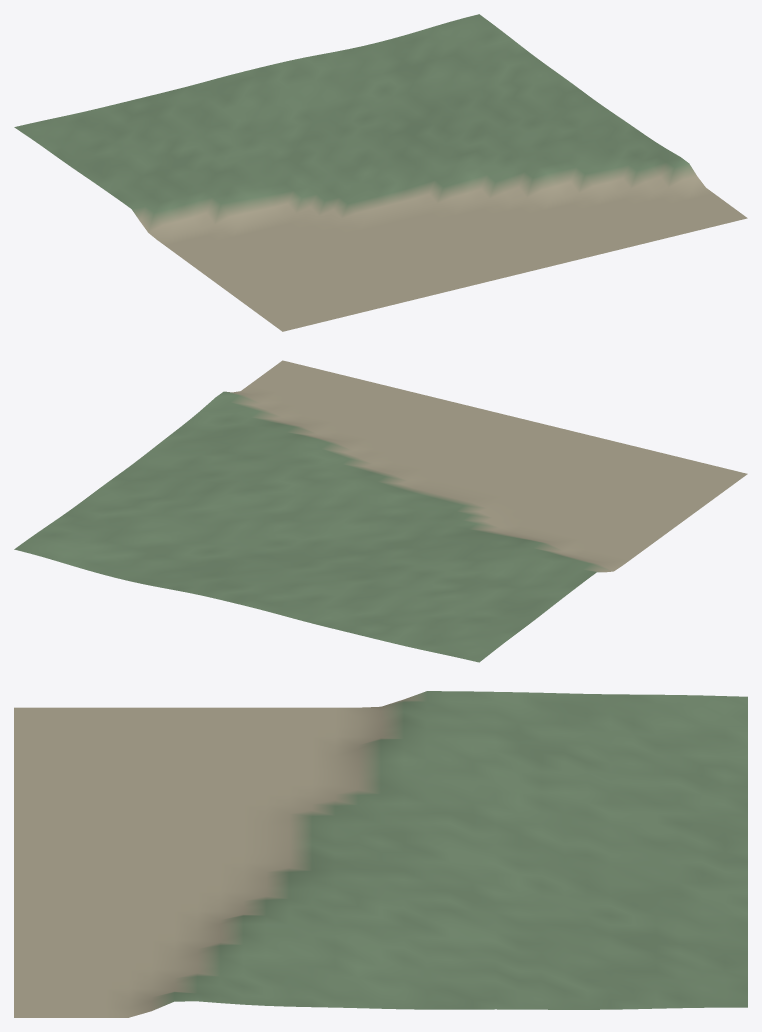
3 views of the same model, one above another, from view 1: azimuth 30°, elevation 25°; view 2: azimuth 150°, elevation 25°; view 3: azimuth 270°, elevation 25° (orthographic). The views are drawn at different scales.
Parts seen in each view (by area): view 1: Terrain-col; view 2: Terrain-col; view 3: Terrain-col.
Boxes of the visible parts, x1,y1,x2,y2 form: Terrain-col: (14, 14, 747, 331); Terrain-col: (14, 360, 747, 662); Terrain-col: (14, 691, 747, 1017).
Size of the model in its own units: 256 by 6.62 by 256.
